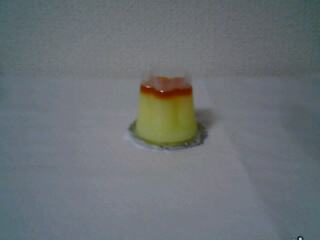001_classes: (127, 67, 212, 151)
